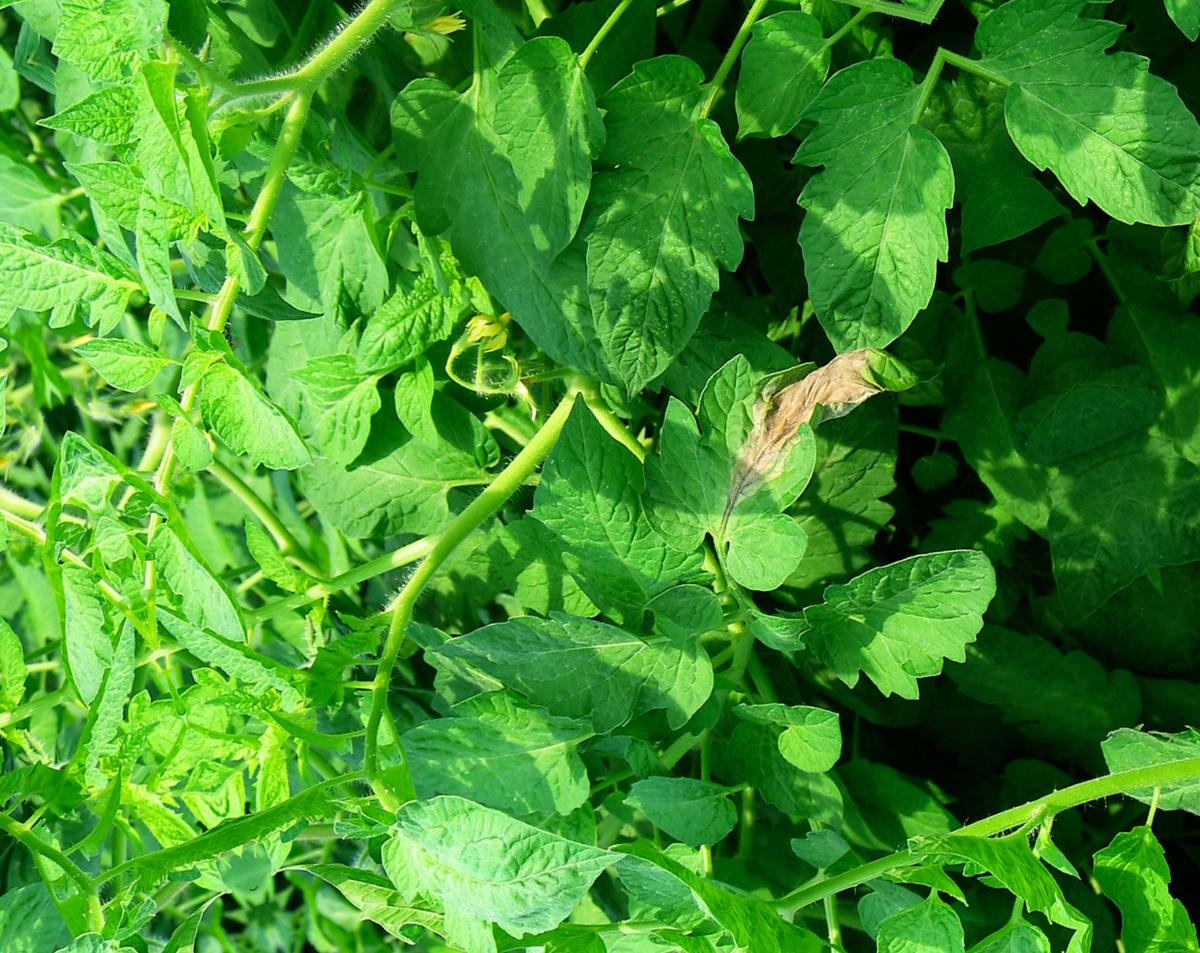Tomato leaf: (498, 30, 842, 405), (408, 518, 760, 811), (742, 33, 1018, 369), (632, 321, 912, 601), (365, 651, 652, 880), (757, 516, 1040, 746), (441, 24, 663, 262), (693, 0, 864, 160), (186, 322, 317, 505), (556, 899, 790, 953)
